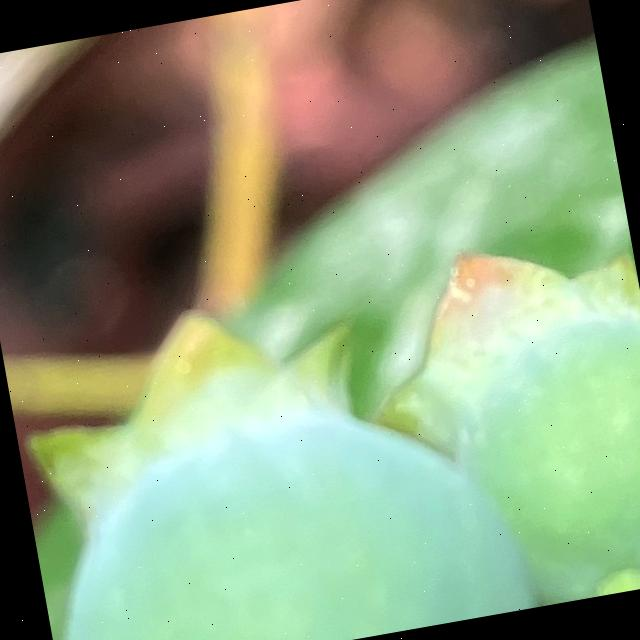Blueberries: (0, 248, 554, 640)
